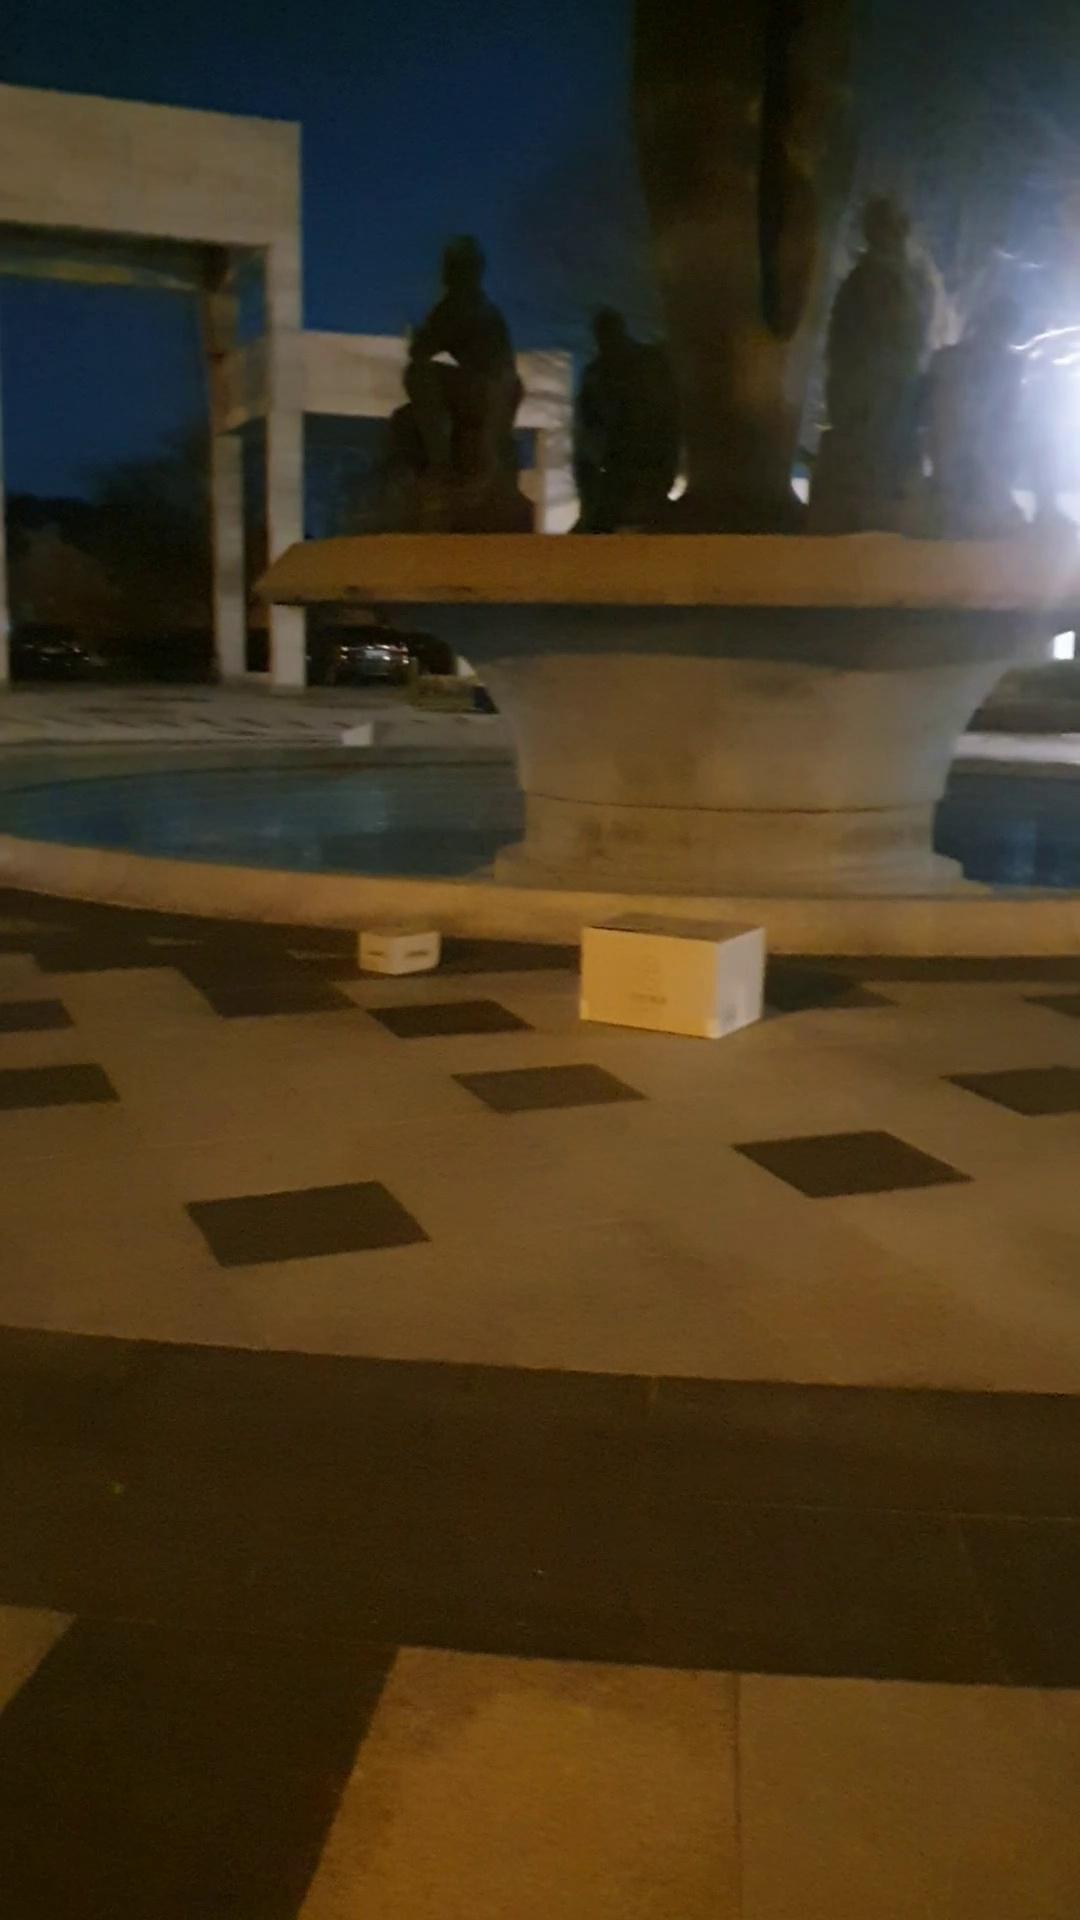Box: (576, 910, 756, 1042), (345, 910, 455, 975)
